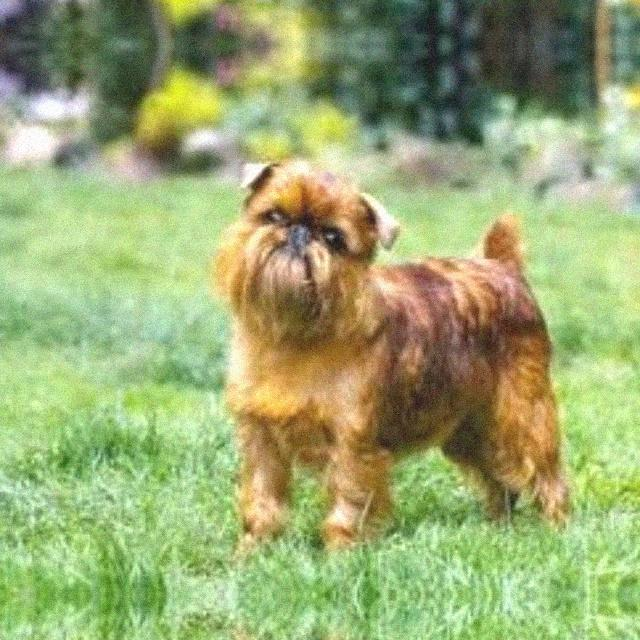dog: (205, 150, 570, 556), (205, 632, 570, 640)
